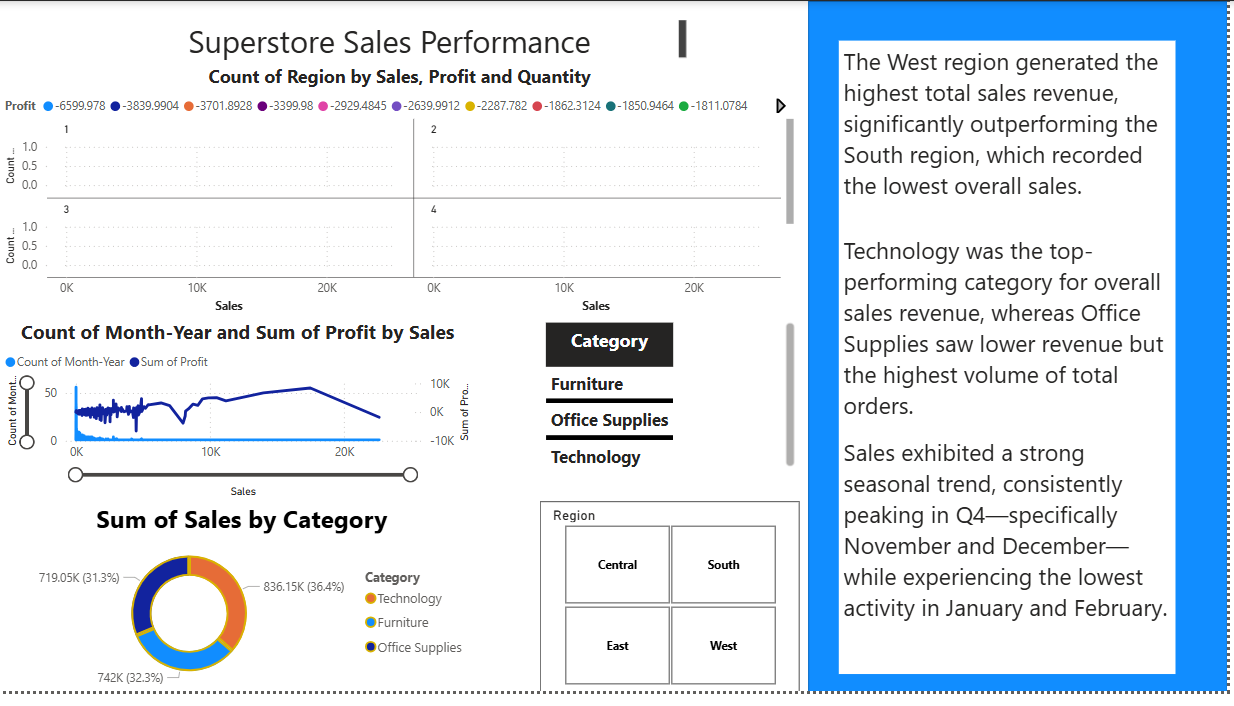

The dashboard page shown, as its layout file describes it:
{"tool":"powerbi","page":{"name":"Page 1","canvas":[1280,720],"ordinal":0},"visuals":[{"type":"lineChart","fields":{"Category":["Sample_Superstore_Cleaned_UTF8.Sales"],"Y":["CountNonNull(Sample_Superstore_Cleaned_UTF8.Month-Year)"],"Y2":["Sum(Sample_Superstore_Cleaned_UTF8.Profit)"]},"box":[0,330.4,495.5,191.5],"z":0},{"type":"columnChart","fields":{"Y":["CountNonNull(Sample_Superstore_Cleaned_UTF8.Region)"],"Category":["Sample_Superstore_Cleaned_UTF8.Sales"],"Series":["Sample_Superstore_Cleaned_UTF8.Profit"],"Rows":["Sample_Superstore_Cleaned_UTF8.Quantity"]},"box":[0,65.7,833.4,264.7],"z":1000},{"type":"donutChart","fields":{"Category":["Sample_Superstore_Cleaned_UTF8.Category"],"Y":["Sum(Sample_Superstore_Cleaned_UTF8.Sales)"]},"box":[0,521.8,495.5,199],"z":2000},{"type":"slicer","fields":{"Values":["Sample_Superstore_Cleaned_UTF8.Region"]},"box":[563.1,521.8,270.3,199],"z":3000},{"type":"tableEx","fields":{"Values":["Sample_Superstore_Cleaned_UTF8.Category"]},"box":[563.1,330.4,270.3,163.3],"z":4000},{"type":"shape","box":[842.8,0,437.4,720.8],"z":5000},{"type":"textbox","box":[99.5,15,621.3,50.7],"z":6000},{"type":"textbox","box":[874.7,41.3,351,660.7],"z":7000}]}

Visuals, with their boxes in screenshot pixels (x1, y1, x2, y2), scaled from the page's 1280x720 canvas onto the 1234x706 screenshot:
lineChart - Sample_Superstore_Cleaned_UTF8.Sales x CountNonNull(Sample_Superstore_Cleaned_UTF8.Month-Year): 0/324/478/512
columnChart - CountNonNull(Sample_Superstore_Cleaned_UTF8.Region) x Sample_Superstore_Cleaned_UTF8.Sales: 0/64/803/324
donutChart - Sample_Superstore_Cleaned_UTF8.Category x Sum(Sample_Superstore_Cleaned_UTF8.Sales): 0/512/478/705
slicer - Sample_Superstore_Cleaned_UTF8.Region: 543/512/803/705
tableEx - Sample_Superstore_Cleaned_UTF8.Category: 543/324/803/484
shape: 813/0/1233/705
textbox: 96/15/695/64
textbox: 843/40/1182/688
